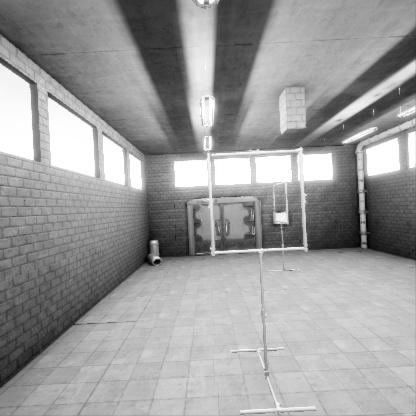gate: (210, 167, 311, 268), (273, 193, 288, 236)
